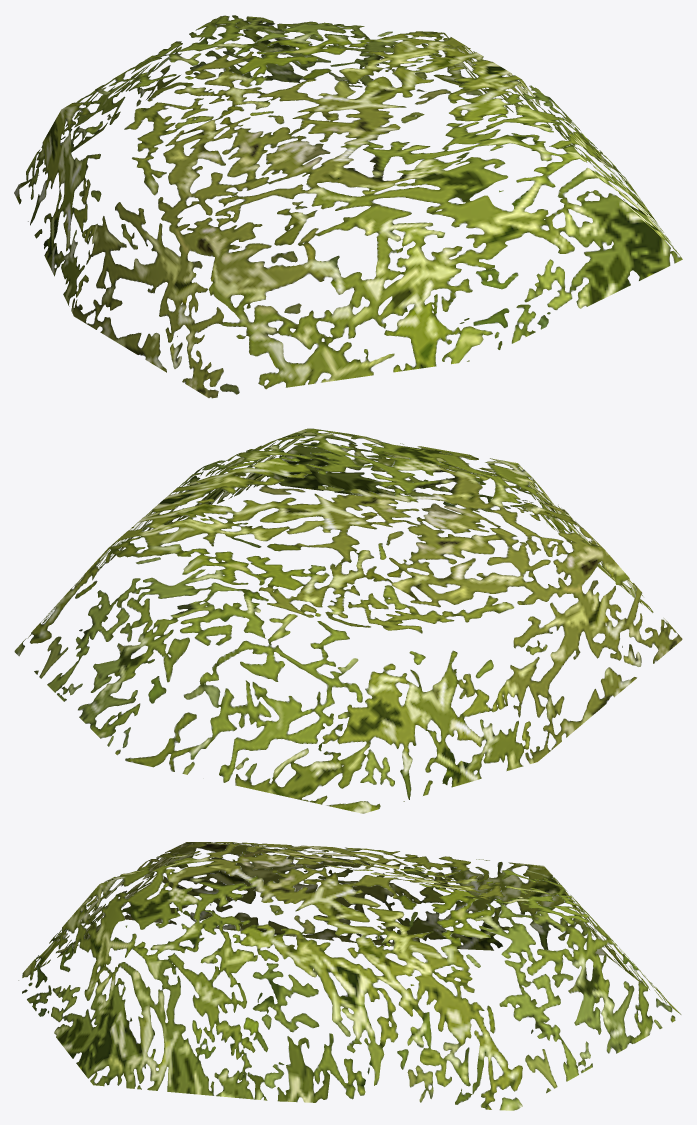
File: Moss03.fbx
3 renders of one model, top to bottom at view 1: azimuth 30°, elevation 25°; view 2: azimuth 150°, elevation 25°; view 3: azimuth 270°, elevation 25°, orthographic. The views are drawn at different scales.
Parts seen in each view (by area): view 1: Moss03; view 2: Moss03; view 3: Moss03.
Part boxes in pixels (x1,y1,x2,y2): Moss03: (14, 15, 682, 398); Moss03: (14, 428, 682, 813); Moss03: (18, 842, 681, 1110).
Size of the model in its own units: 1.93 by 0.6581 by 2.48.
1 material, 1 textured.
